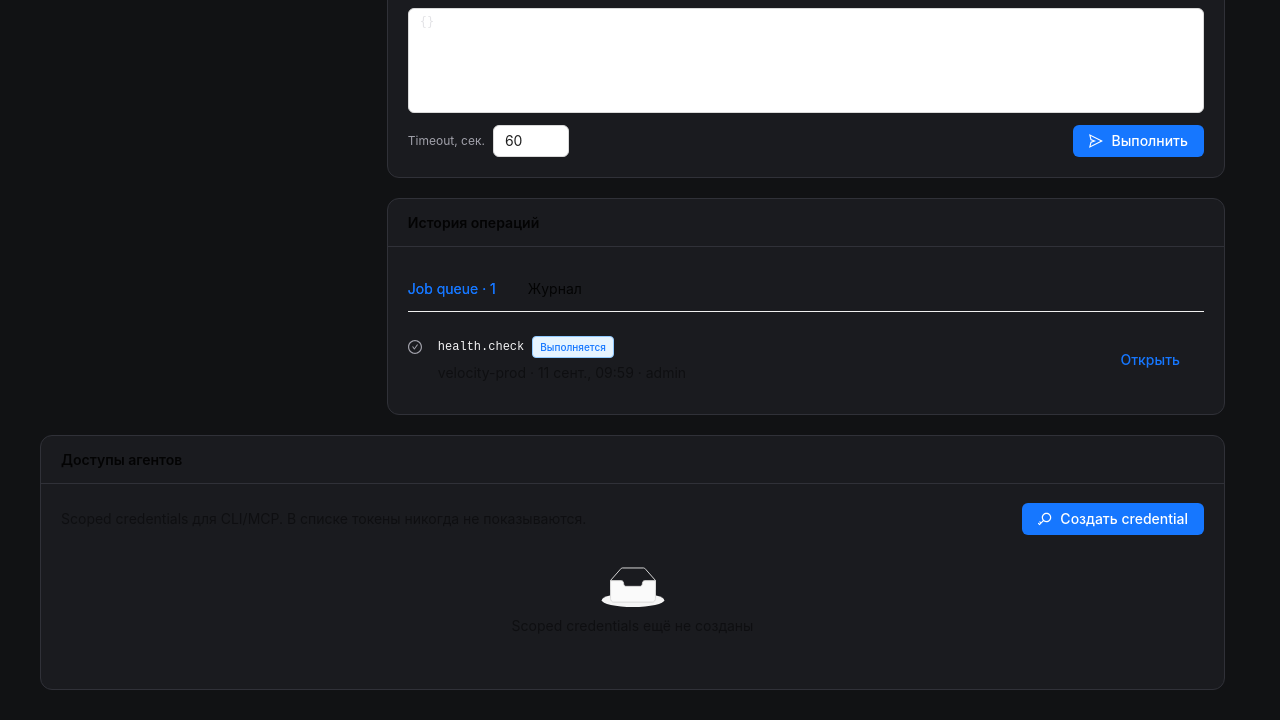
Test: NetworkPage › shows current workflow progress and caps a long detail timeline
The width and height of the screenshot is (1280, 720).
(page scrolled)
Click the button "Открыть" at coordinates (1150, 360), box 1104,344 -> 1196,376
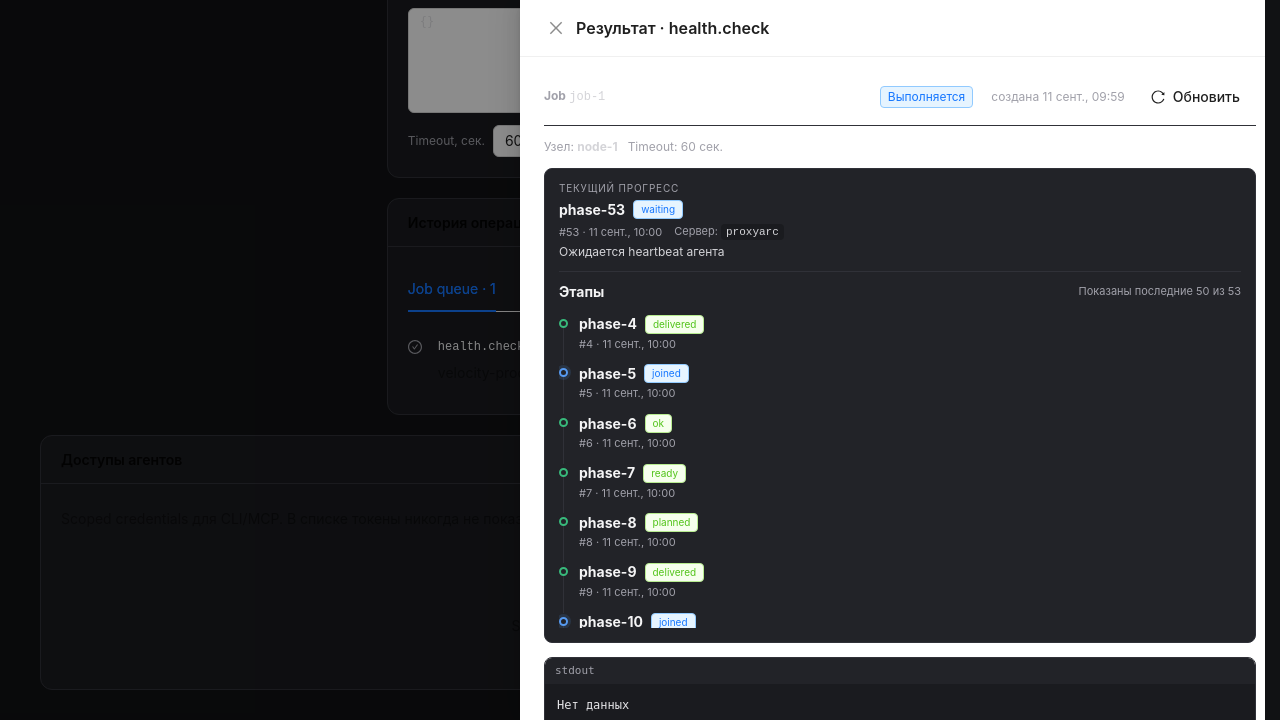
Result: the element with class "network-job-progress__current" shows "phase-53" at 559,201 -> 625,218
Result: the element with class "network-job-progress__current" shows "Ожидается heartbeat агента" at 559,244 -> 725,259
Result: the text "Этапы" is shown at 559,284 -> 604,300
